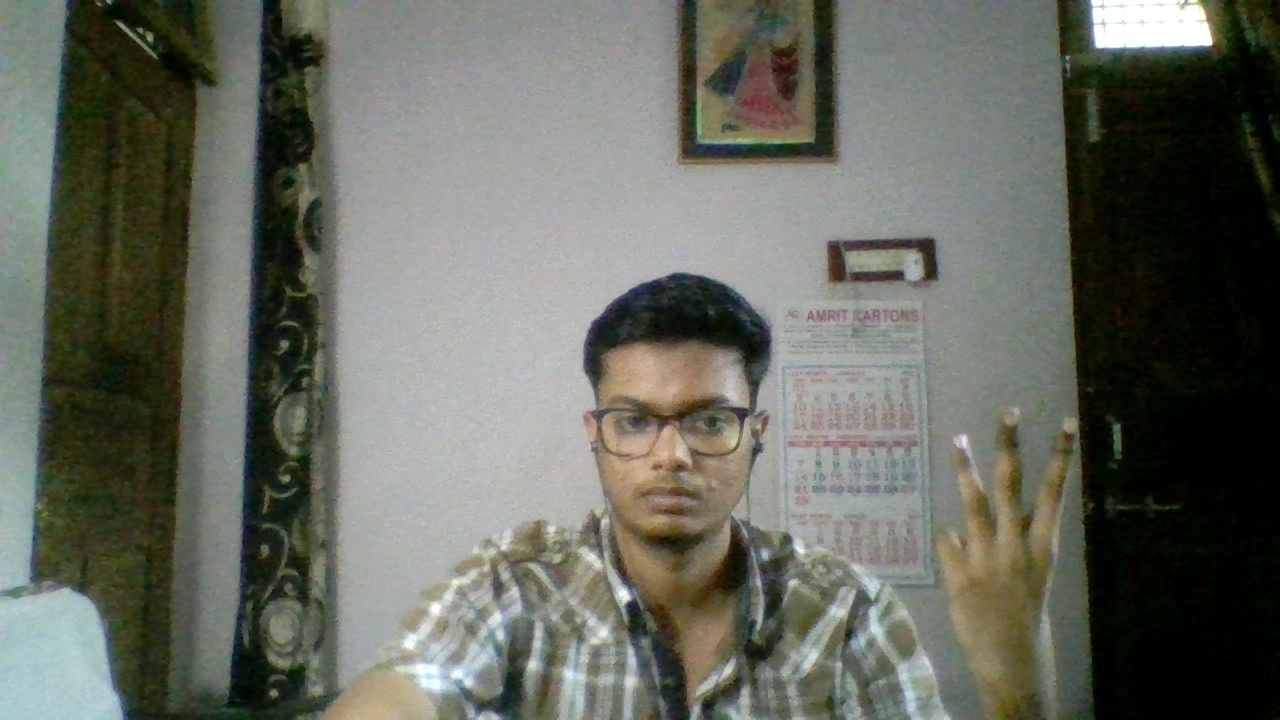three: (902, 389, 1104, 720)
